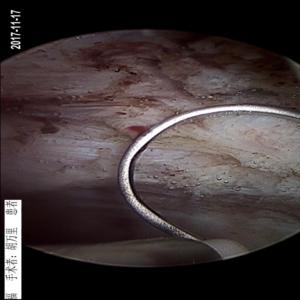film: (21, 52, 285, 157)
